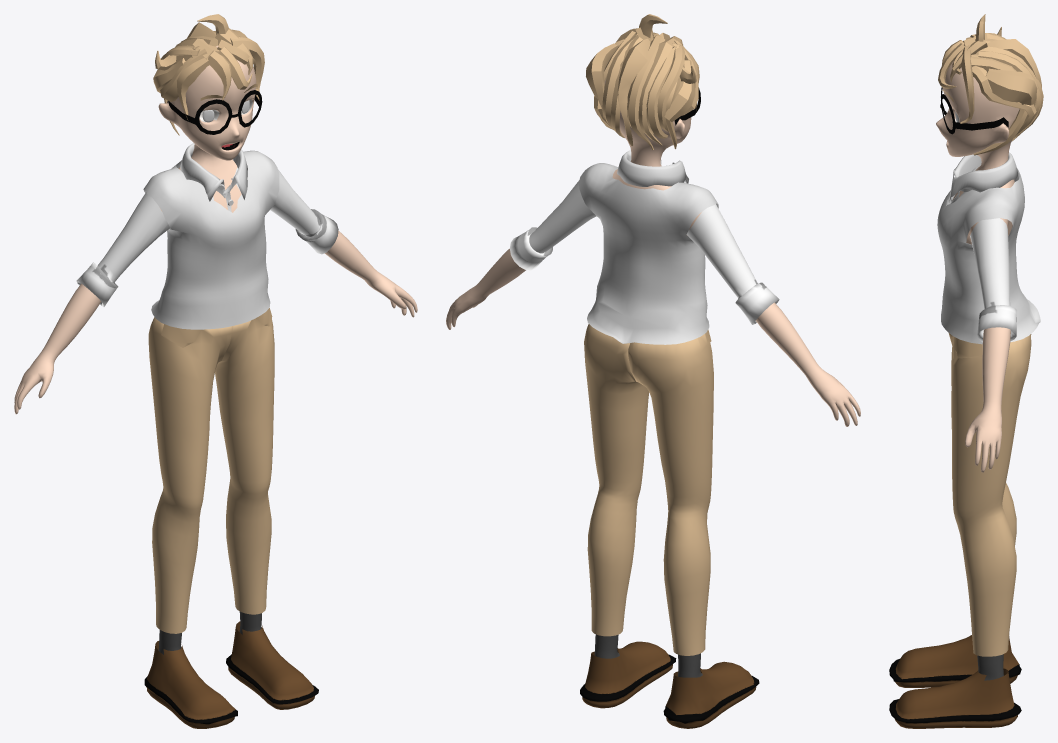
The model's file is Tyson Well.fbx.
The picture shows the model from 3 angles, left to right: view 1: azimuth 30°, elevation 25°; view 2: azimuth 150°, elevation 25°; view 3: azimuth 270°, elevation 25°; orthographic projection. The views are drawn at different scales.
Visible parts, largest first — view 1: jeans.001, sweater.001, body.001, shoes.001, sleeve.001, NurbsPath.001, collar.001, glasses.001; view 2: jeans.001, sweater.001, NurbsPath.001, shoes.001, body.001, sleeve.001, collar.001; view 3: jeans.001, shoes.001, body.001, sweater.001, NurbsPath.001, sleeve.001, collar.001, glasses.001.
Part boxes in pixels (<box>): jeans.001: <box>148,308,274,633</box>; sweater.001: <box>143,150,279,329</box>; body.001: <box>14,45,417,654</box>; shoes.001: <box>144,621,318,728</box>; sleeve.001: <box>76,169,338,306</box>; NurbsPath.001: <box>153,14,264,135</box>; collar.001: <box>180,143,247,211</box>; glasses.001: <box>167,90,262,134</box>; jeans.001: <box>584,324,713,655</box>; sweater.001: <box>579,163,718,344</box>; NurbsPath.001: <box>586,14,699,149</box>; shoes.001: <box>580,641,759,728</box>; body.001: <box>446,79,860,677</box>; sleeve.001: <box>509,180,779,324</box>; collar.001: <box>617,150,688,186</box>; jeans.001: <box>948,333,1031,656</box>; shoes.001: <box>889,635,1021,728</box>; body.001: <box>936,61,1019,680</box>; sweater.001: <box>937,168,1040,344</box>; NurbsPath.001: <box>938,14,1043,155</box>; sleeve.001: <box>970,218,1016,341</box>; collar.001: <box>948,152,1018,203</box>; glasses.001: <box>940,87,1008,134</box>.
Size of the model in its own units: 113 by 181 by 37.23.
Materials: 9 (5 with a texture image).
